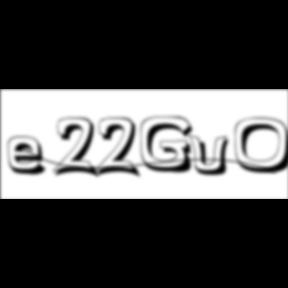2: (54, 117, 104, 181), (95, 117, 145, 181)
G: (140, 116, 200, 176)
e: (8, 135, 54, 178)
u: (188, 132, 236, 178)
